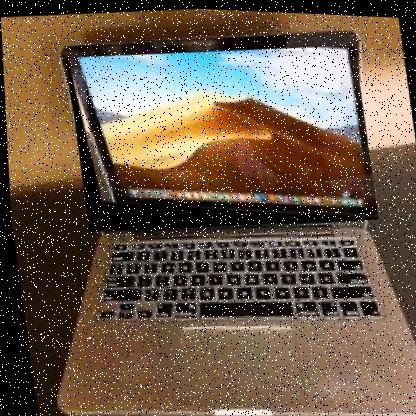Normal: (63, 32, 377, 242)
